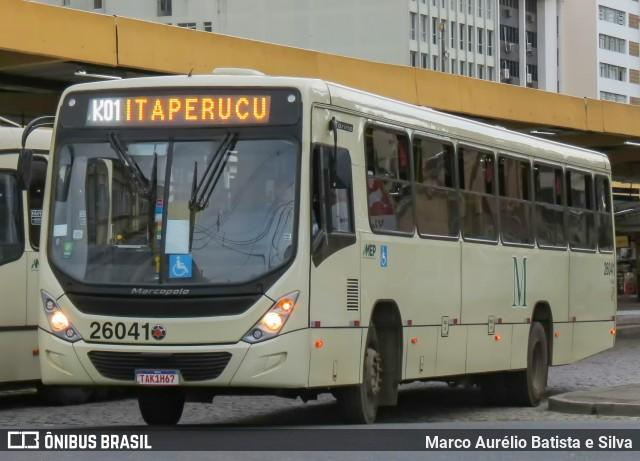ITAPERUCU: (122, 94, 269, 124)
